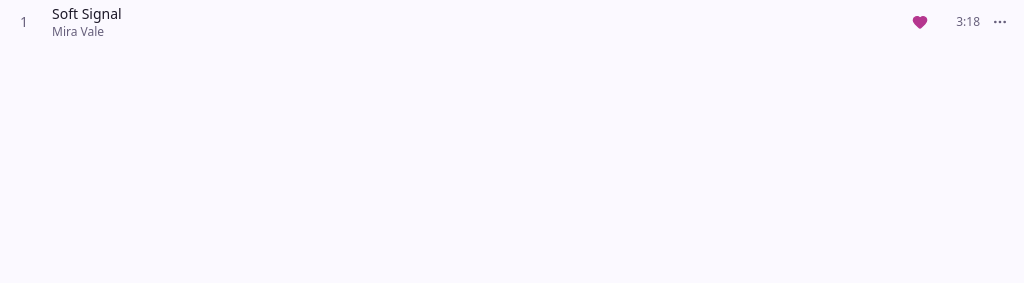
TrackRow › menu › offers Remove from library for a saved song, wherever its file is
This screenshot has width=1024, height=283.
What coordinates should you click on to do the following:
click the button named "More options for Soft Signal"
I would click on:
 (1000, 22)
Its box is [984, 6, 1016, 38].
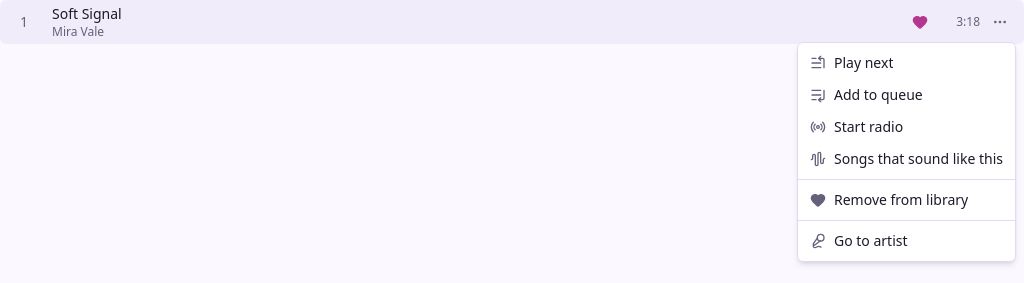
Expected: the text "Remove from library" is shown, [834, 190, 968, 210]
